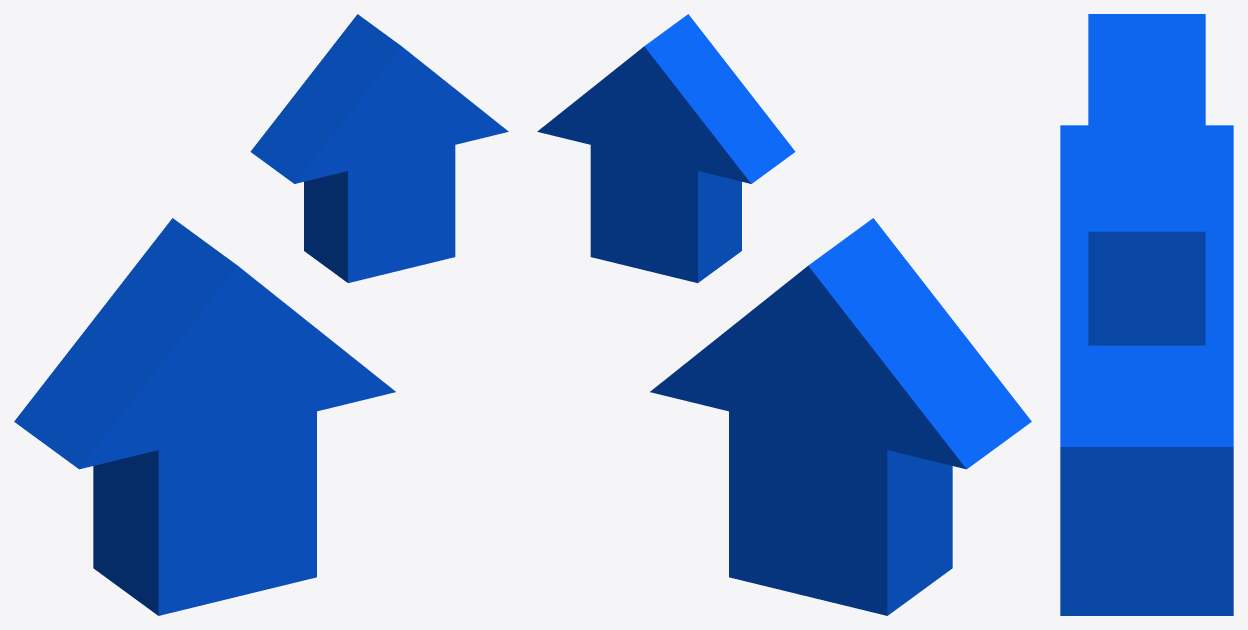
The model's file is TurboThrusters.fbx.
3 views of the same model, side by side, from view 1: azimuth 30°, elevation 25°; view 2: azimuth 150°, elevation 25°; view 3: azimuth 270°, elevation 25° (orthographic). The views are drawn at different scales.
Parts seen in each view (by area): view 1: Turbo Thrusters; view 2: Turbo Thrusters; view 3: Turbo Thrusters.
Part boxes in pixels (x1,y1,x2,y2): Turbo Thrusters: (14, 14, 508, 615); Turbo Thrusters: (537, 14, 1031, 615); Turbo Thrusters: (1060, 14, 1233, 615).
Bounding box in the file's own units: 89.95 × 97.64 × 23.07.
